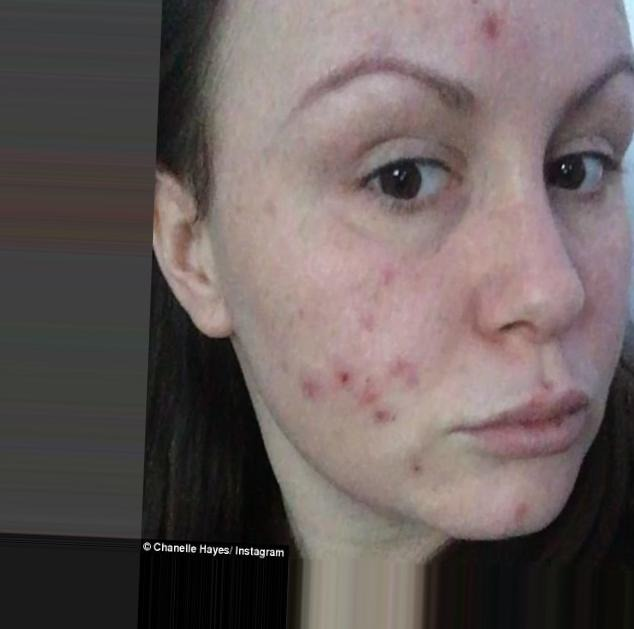Acne: (297, 291, 448, 425)
